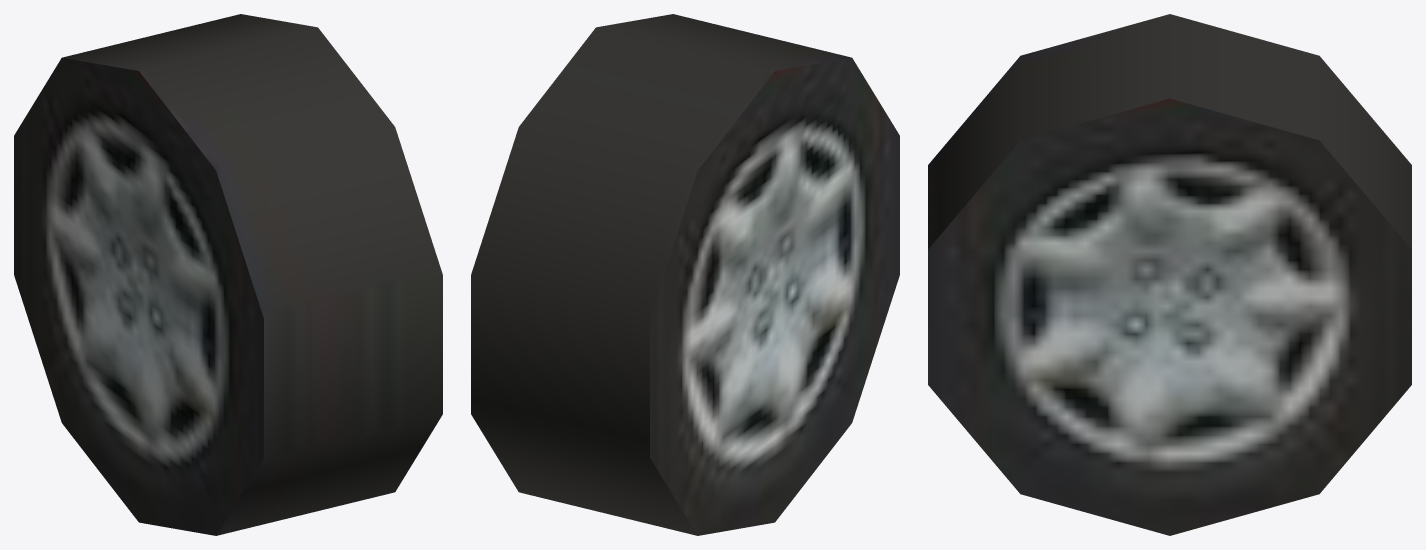
File: wheel.glb
The picture shows the model from 3 angles, left to right: view 1: azimuth 30°, elevation 25°; view 2: azimuth 150°, elevation 25°; view 3: azimuth 270°, elevation 25°; orthographic projection. The views are drawn at different scales.
Parts seen in each view (by area): view 1: roue; view 2: roue; view 3: roue.
Part boxes in pixels (bbox=[...]): roue: bbox=[14, 14, 442, 535]; roue: bbox=[471, 14, 899, 535]; roue: bbox=[928, 14, 1411, 535].
Bounding box in the file's own units: 0.2378 × 0.573 × 0.5746.
Materials: 1 (1 with a texture image).
